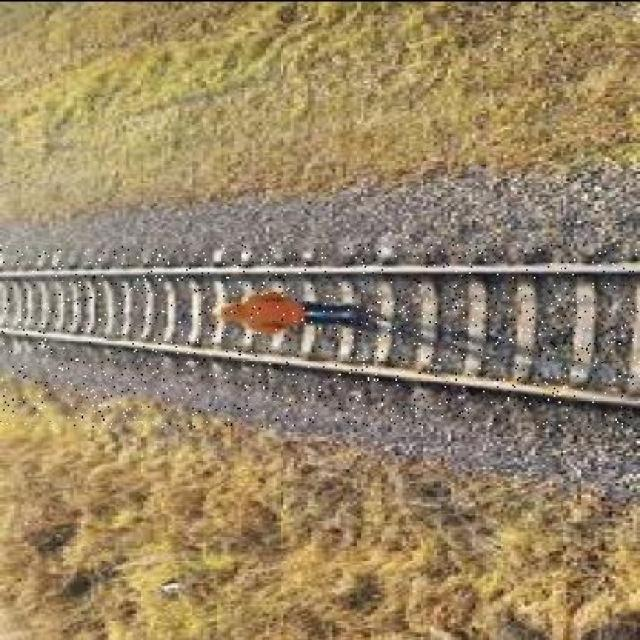rail: (1, 245, 640, 427)
